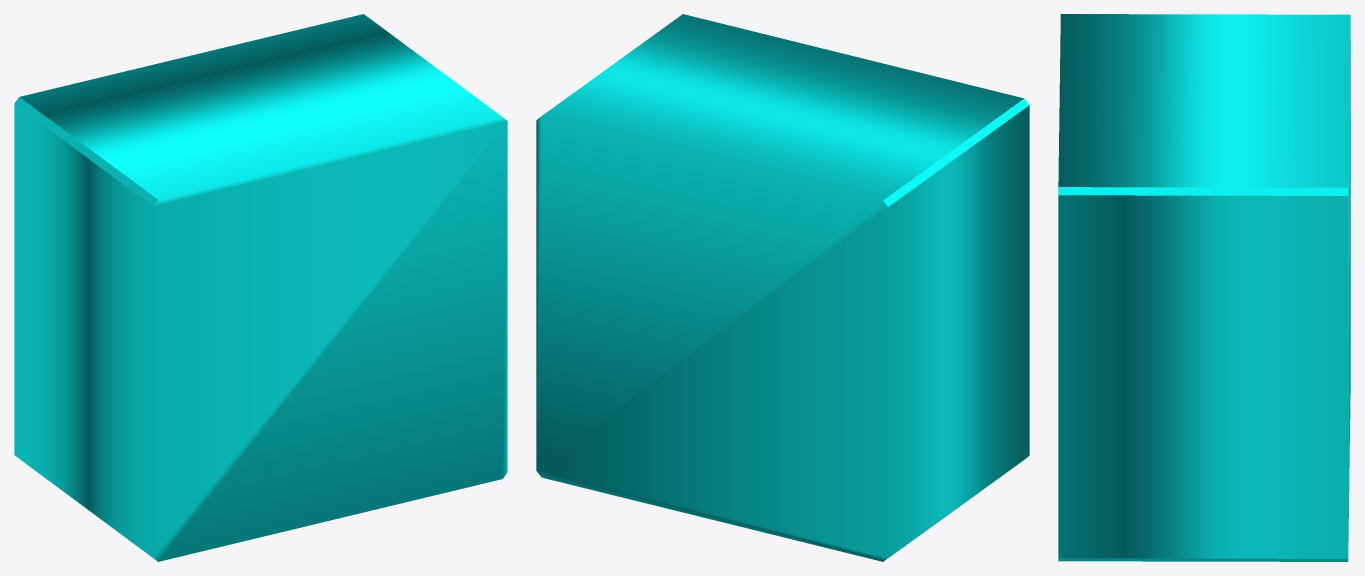
File: Cuadrado_Pequeño_Vida.fbx
The picture shows the model from 3 angles, left to right: view 1: azimuth 30°, elevation 25°; view 2: azimuth 150°, elevation 25°; view 3: azimuth 270°, elevation 25°; orthographic projection. The views are drawn at different scales.
Parts seen in each view (by area): view 1: Cuadrado_Pequeño_Vida; view 2: Cuadrado_Pequeño_Vida; view 3: Cuadrado_Pequeño_Vida.
Boxes of the visible parts, x1,y1,x2,y2 form: Cuadrado_Pequeño_Vida: [14, 14, 507, 561]; Cuadrado_Pequeño_Vida: [536, 14, 1029, 561]; Cuadrado_Pequeño_Vida: [1058, 14, 1350, 561].
Size of the model in its own units: 26.08 by 25.42 by 17.99.
